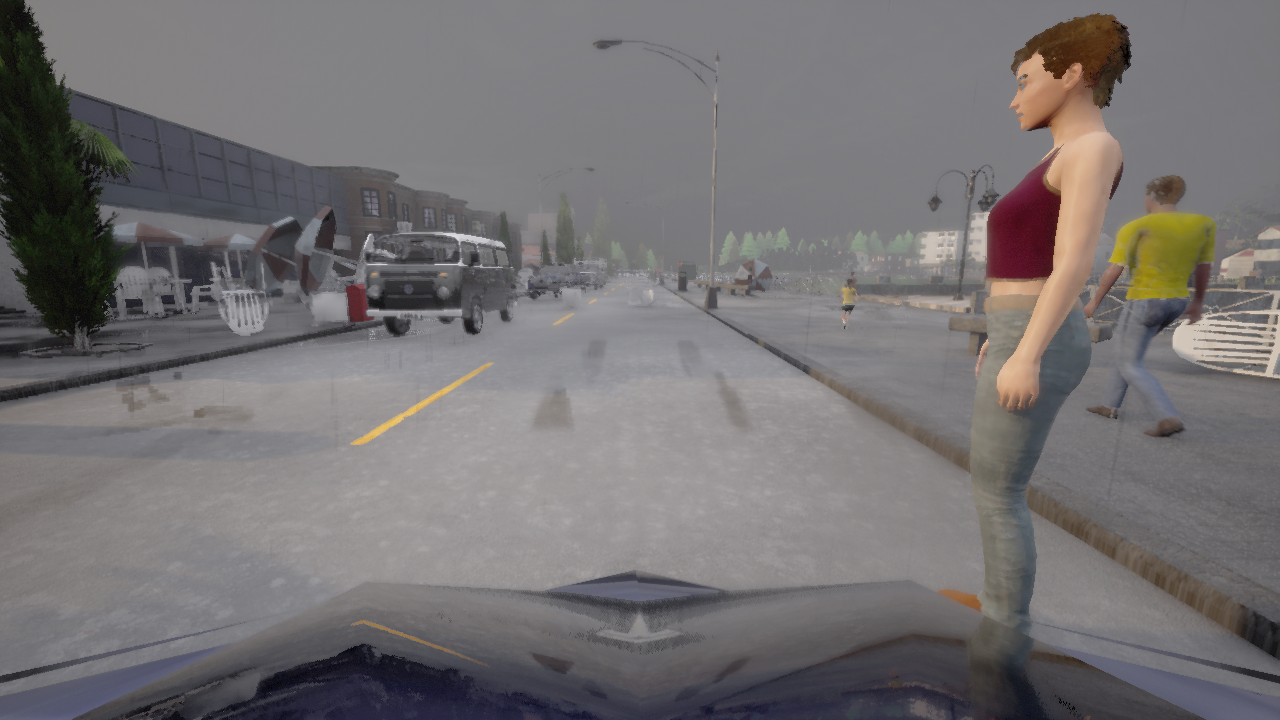cyclist: (0, 569, 1279, 719), (365, 231, 517, 334), (528, 262, 584, 298), (573, 257, 605, 289)
pedestrian: (937, 12, 1130, 635), (1083, 174, 1216, 437), (837, 278, 858, 329), (745, 260, 753, 292), (850, 271, 856, 301)
